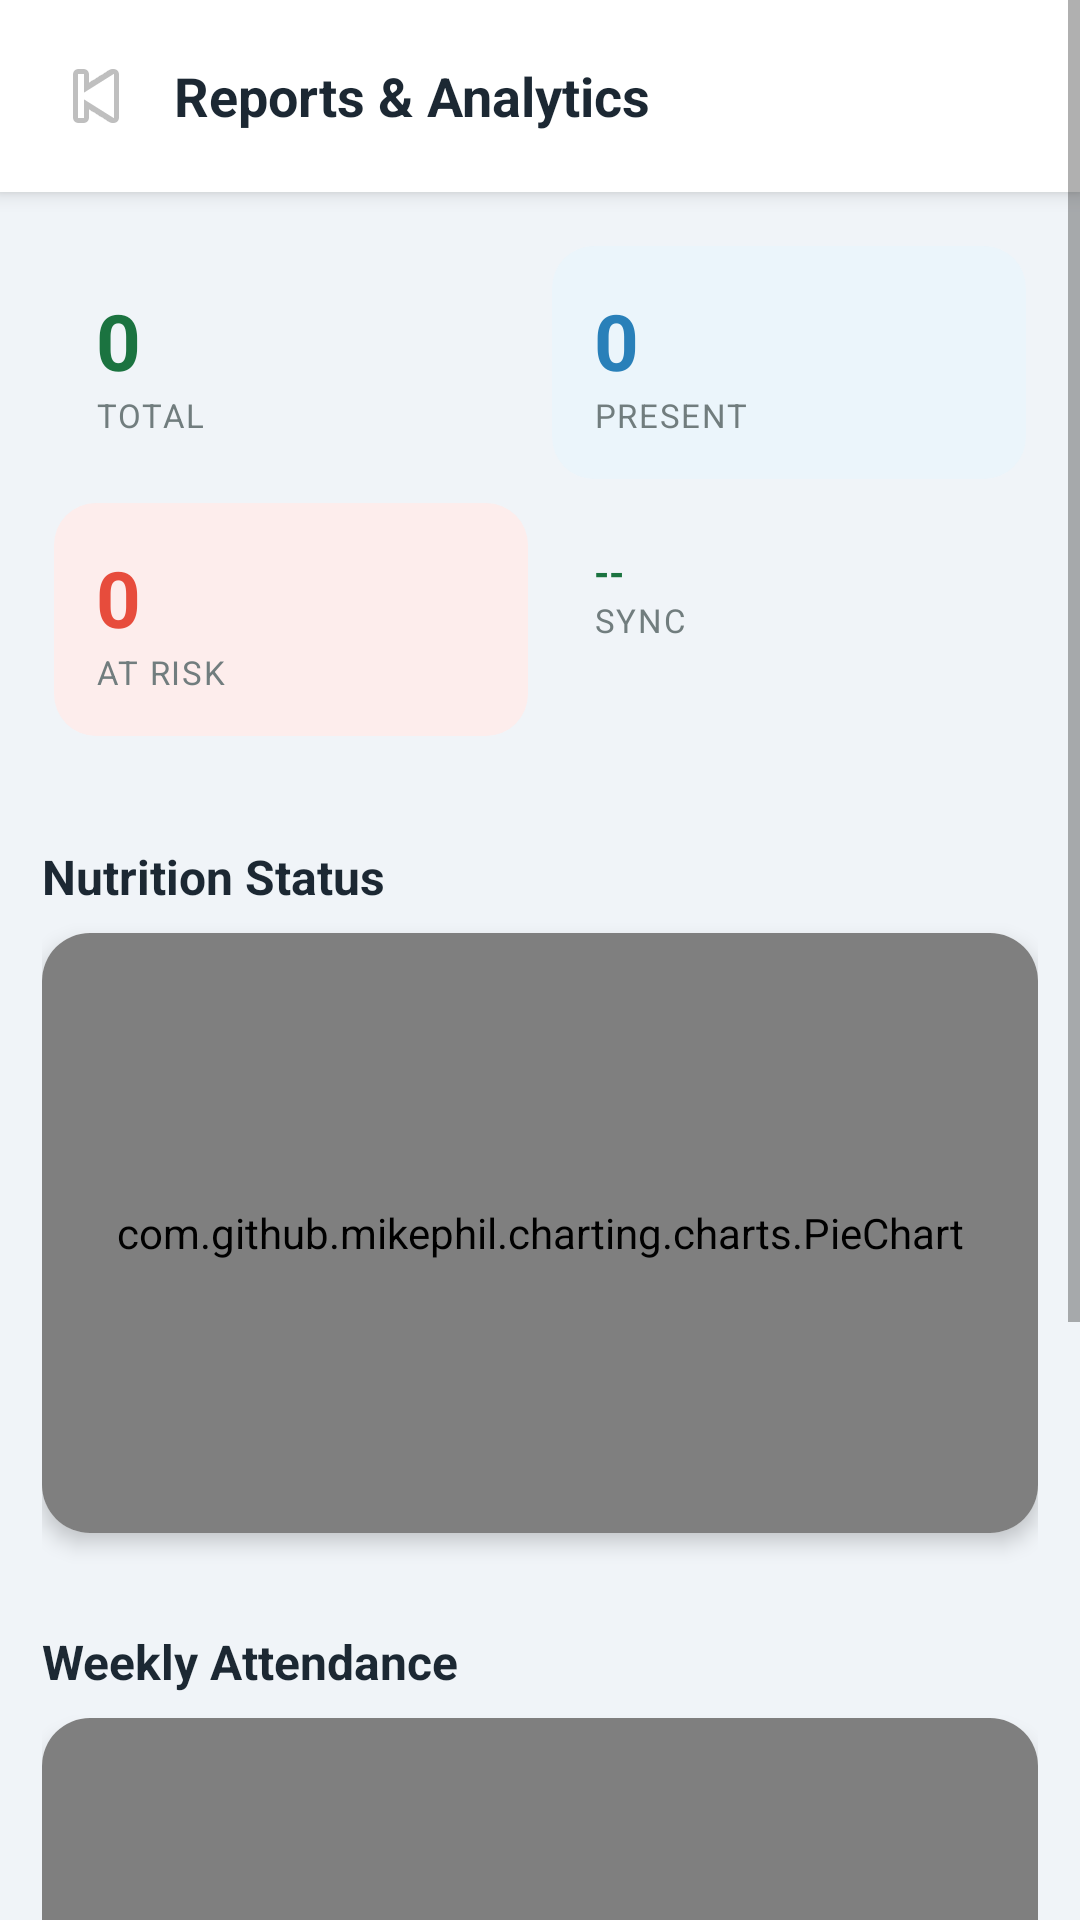

Screen size 1080px x 1920px. Icon name, then its box in pixels as (x1, y1, x2, y2):
previous: (73, 69, 119, 123)
